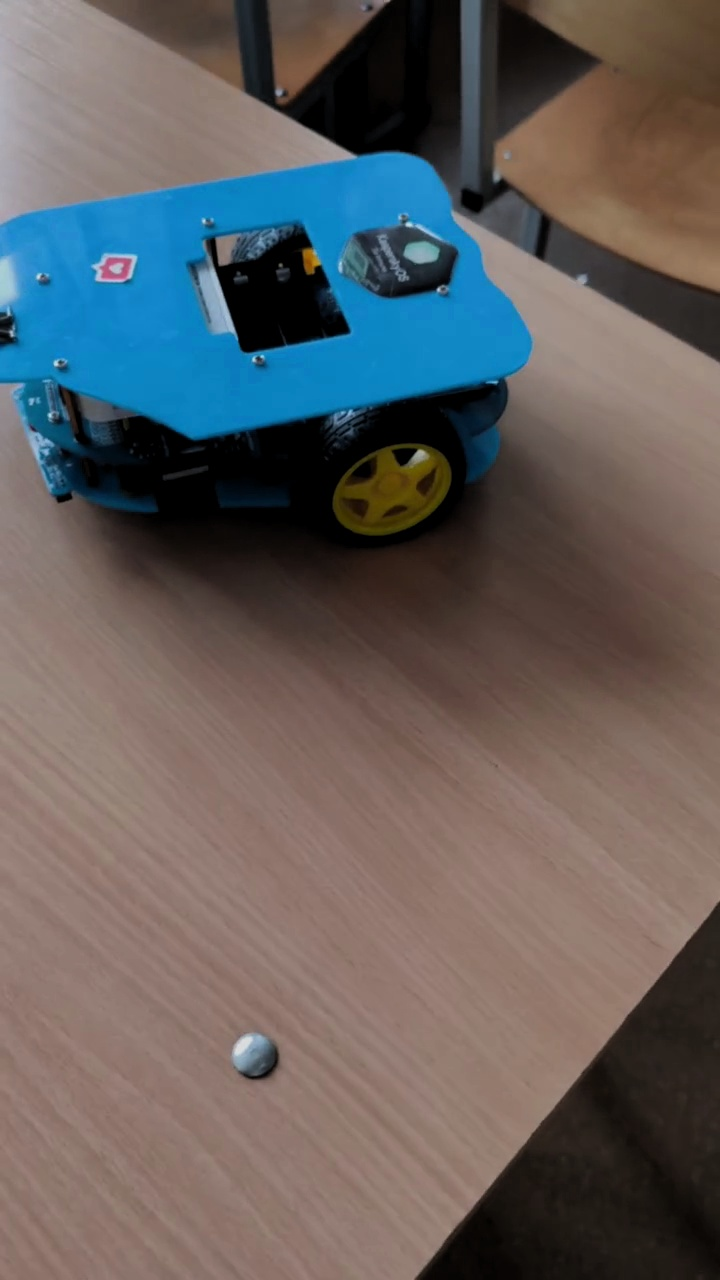robot: (1, 151, 533, 549)
